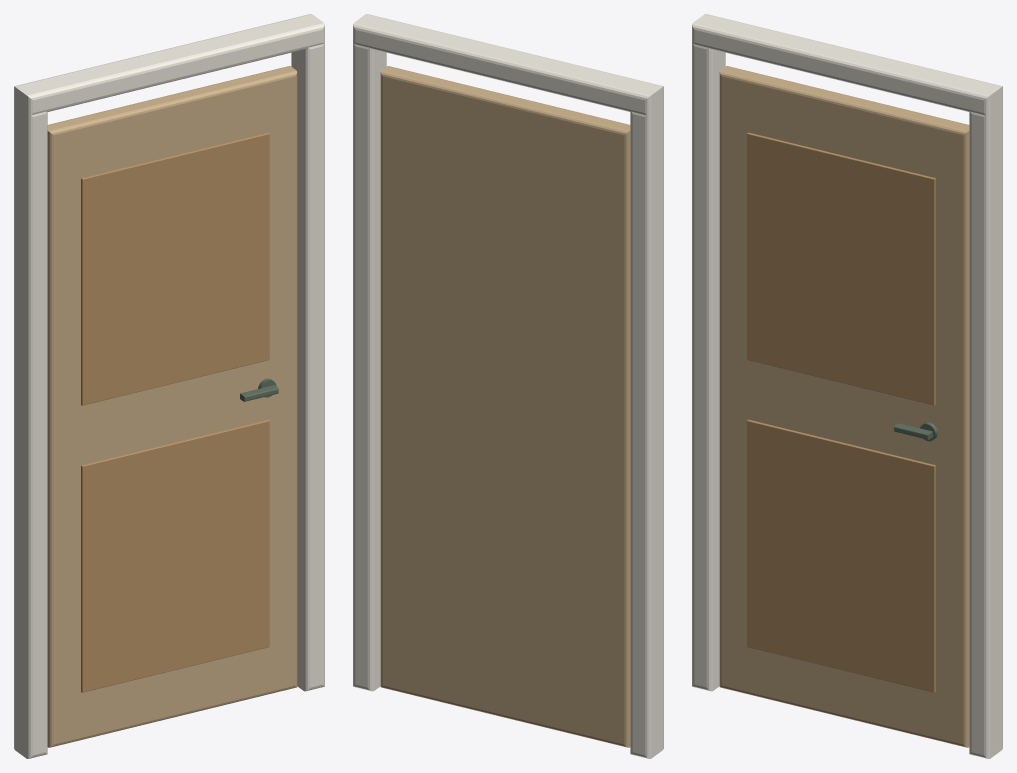
Rendered from door.glb.
3 views of the same model, side by side, from view 1: azimuth 30°, elevation 25°; view 2: azimuth 150°, elevation 25°; view 3: azimuth 330°, elevation 25° (orthographic).
Visible parts, largest first — view 1: Inset panel (×2), Door slab, Door jamb (×2), Door lintel; view 2: Door slab, Door jamb (×2), Door lintel; view 3: Inset panel (×2), Door slab, Door jamb (×2), Door lintel.
Boxes of the visible parts, x1,y1,x2,y2 form: Inset panel (×2): [81, 132, 269, 692]; Door slab: [47, 66, 297, 747]; Door jamb (×2): [14, 43, 324, 758]; Door lintel: [14, 14, 324, 116]; Door slab: [380, 66, 630, 747]; Door jamb (×2): [353, 41, 663, 758]; Door lintel: [353, 14, 663, 115]; Inset panel (×2): [747, 132, 935, 692]; Door slab: [719, 66, 969, 747]; Door jamb (×2): [692, 41, 1002, 758]; Door lintel: [692, 14, 1002, 115].
Bounding box in the file's own units: 1.03 × 2.2 × 0.136.
